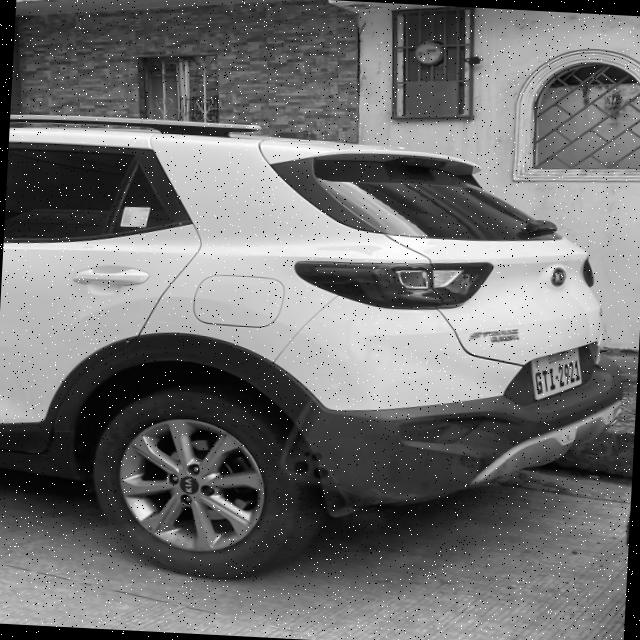Placa: (532, 349, 581, 400)
